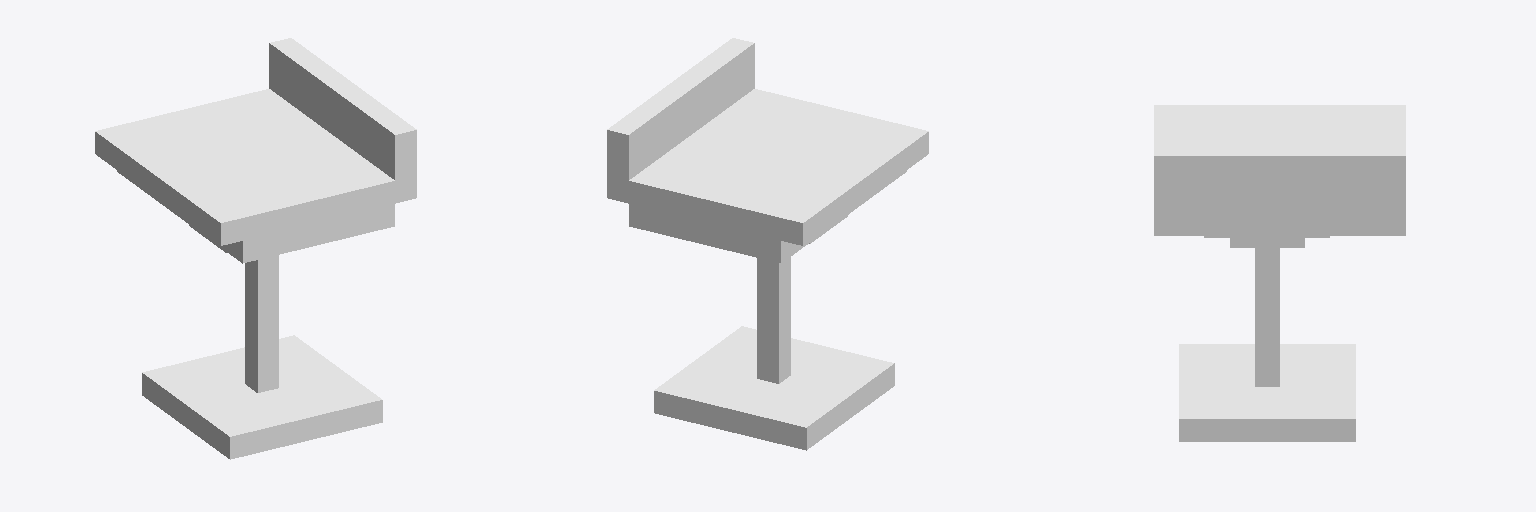
File: modern:table-chair.obj
3 views of the same model, side by side, from view 1: azimuth 30°, elevation 25°; view 2: azimuth 150°, elevation 25°; view 3: azimuth 270°, elevation 25° (orthographic).
Visible parts, largest first — view 1: modern:table-chair; view 2: modern:table-chair; view 3: modern:table-chair.
Boxes of the visible parts, box(x1,y1,x2,y2) form: modern:table-chair: box(95, 38, 416, 459); modern:table-chair: box(607, 38, 928, 450); modern:table-chair: box(1154, 105, 1405, 441).
Size of the model in its own units: 9 by 13 by 10.